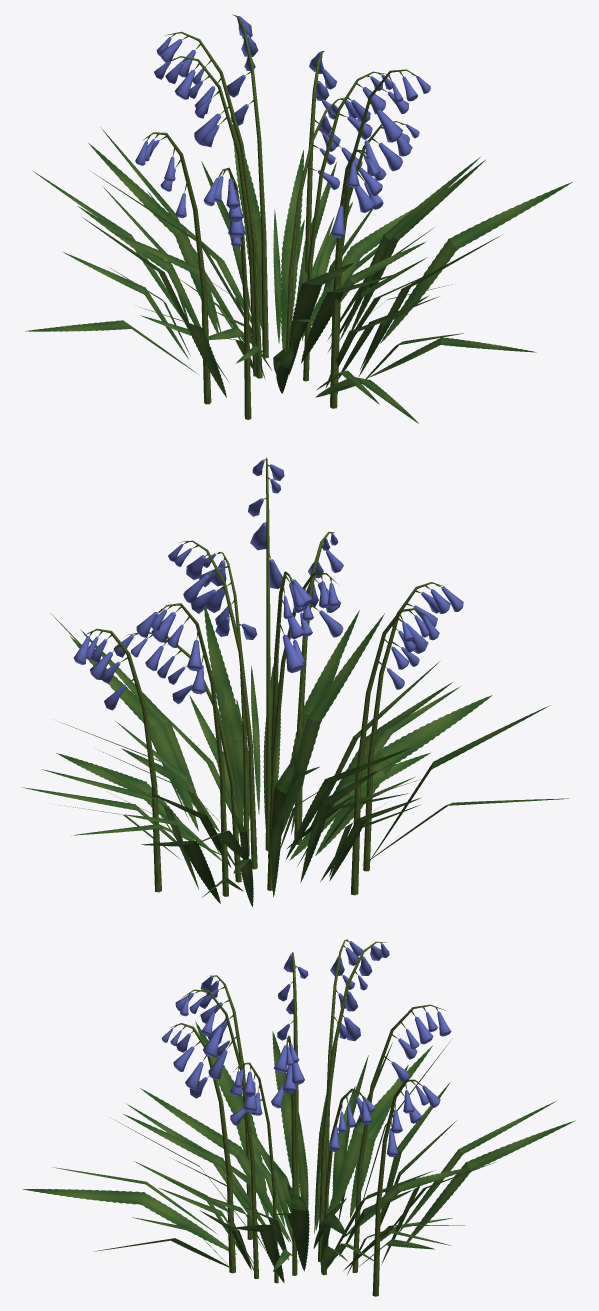
The model's file is english-bluebell.glb.
3 views of the same model, one above another, from view 1: azimuth 30°, elevation 25°; view 2: azimuth 150°, elevation 25°; view 3: azimuth 270°, elevation 25° (orthographic). The views are drawn at different scales.
Visible parts, largest first — view 1: English Bluebell; view 2: English Bluebell; view 3: English Bluebell.
Part boxes in pixels (bbox=[...]): English Bluebell: bbox=[25, 14, 572, 423]; English Bluebell: bbox=[22, 457, 568, 906]; English Bluebell: bbox=[23, 939, 575, 1296].
Bounding box in the file's own units: 0.6715 × 0.405 × 0.6879.
3 materials, 3 textured.
